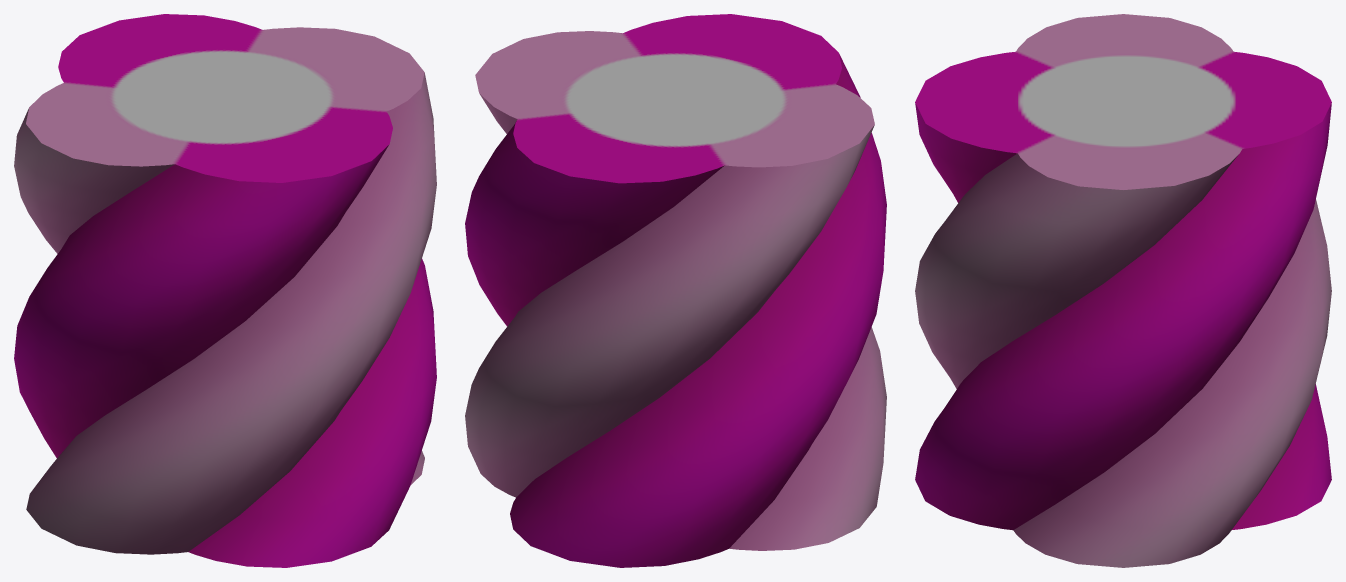
The model's file is CandySwirl.glb.
The picture shows the model from 3 angles, left to right: view 1: azimuth 30°, elevation 25°; view 2: azimuth 150°, elevation 25°; view 3: azimuth 270°, elevation 25°; orthographic projection. The views are drawn at different scales.
Visible parts, largest first — view 1: geometry_0; view 2: geometry_0; view 3: geometry_0.
Part boxes in pixels (left/top/right/bottom): geometry_0: left=14, top=14, right=436, bottom=567; geometry_0: left=465, top=14, right=886, bottom=567; geometry_0: left=915, top=14, right=1331, bottom=567.
Bounding box in the file's own units: 3 × 3 × 3.
1 material, 1 textured.
